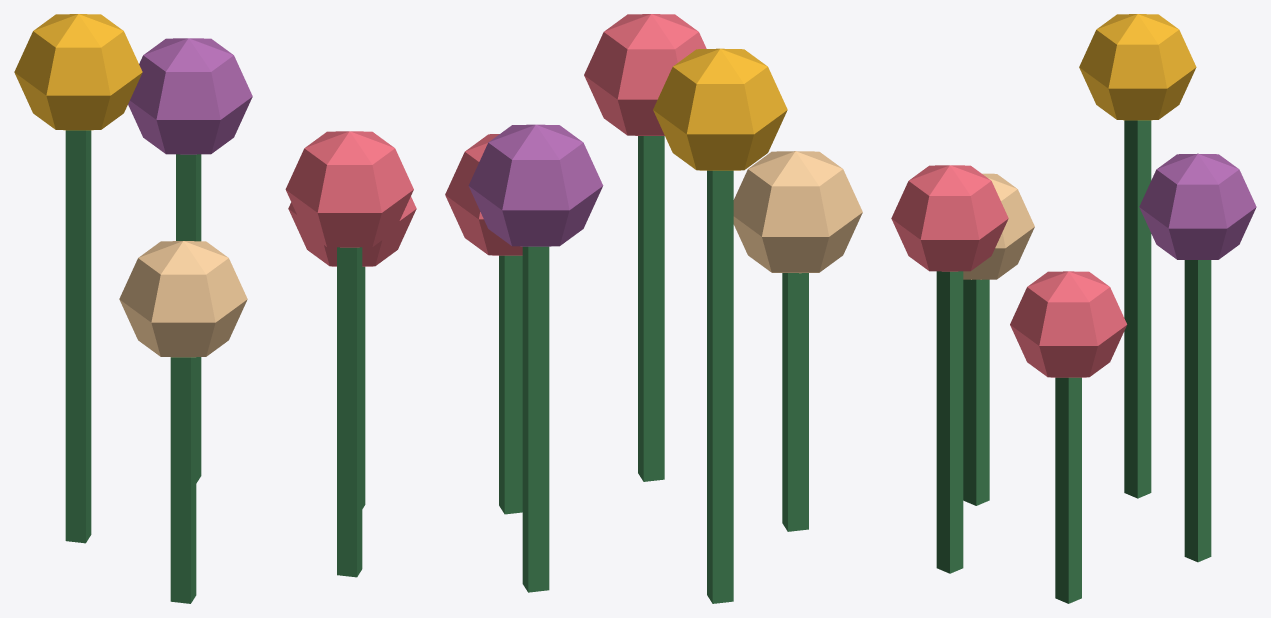
Rendered from decor_flowers.glb.
3 views of the same model, side by side, from view 1: azimuth 30°, elevation 25°; view 2: azimuth 150°, elevation 25°; view 3: azimuth 270°, elevation 25° (orthographic). The views are drawn at different scales.
Visible parts, largest first — view 1: decor_flowers; view 2: decor_flowers; view 3: decor_flowers.
Part boxes in pixels (x1,y1,x2,y2): decor_flowers: [14, 14, 416, 603]; decor_flowers: [445, 14, 862, 603]; decor_flowers: [891, 14, 1256, 603].
Bounding box in the file's own units: 0.2092 × 0.315 × 0.2178.
